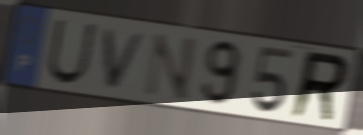5: (249, 44, 296, 116)
9: (198, 38, 245, 109)
N: (141, 31, 199, 103)
R: (287, 48, 352, 125)
U: (44, 17, 99, 87)
V: (101, 27, 150, 92)
